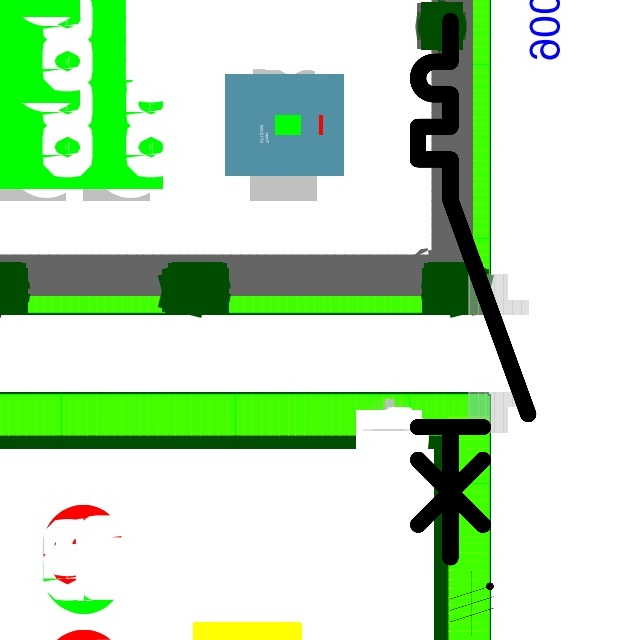interruptor_termomagnetico: (404, 7, 542, 571)
